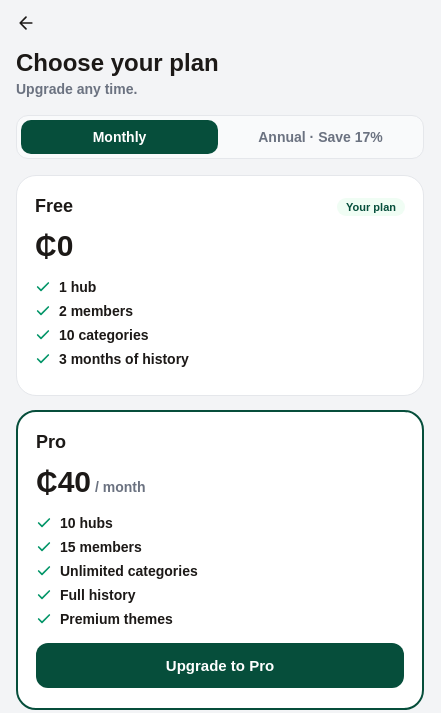
Test: PricingView › toggling to annual swaps in the annual price and shows the savings badge
The image size is (441, 713).
Click the button with test id "toggle-annual" at (320, 137), box top-left (222, 120), bottom-right (419, 154)
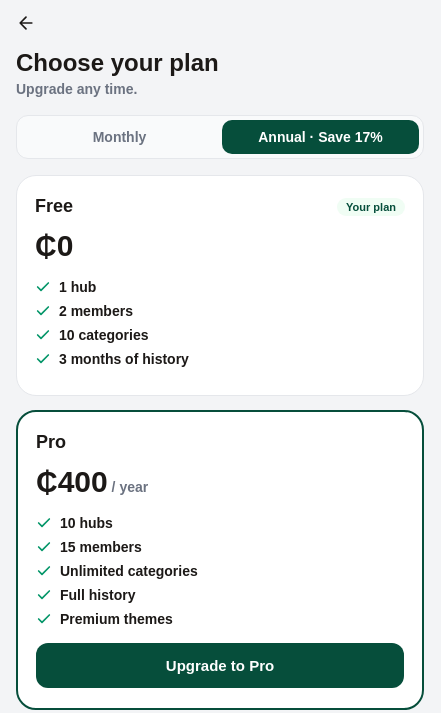
Result: the element with test id "plan-pro" shows "₵400" at top-left (36, 465), bottom-right (108, 498)
